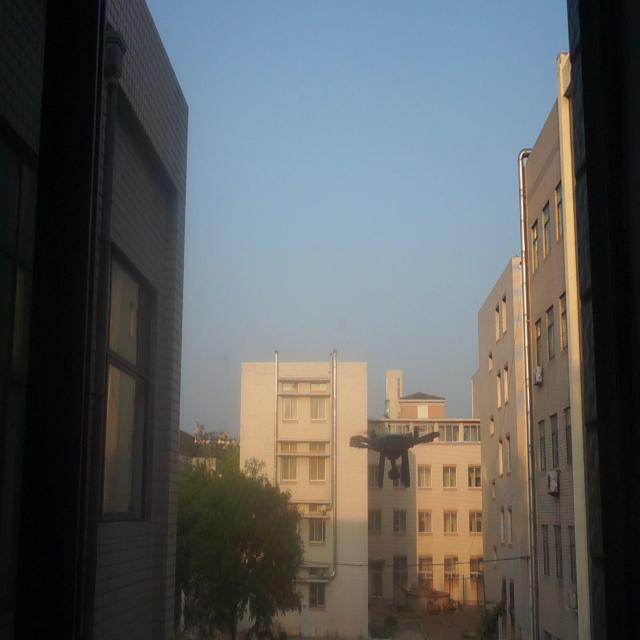UAV: (349, 427, 440, 492)
